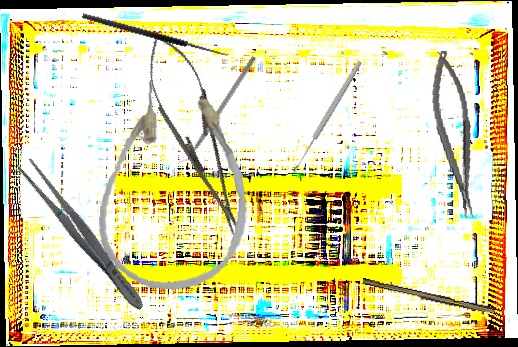Cannula: (93, 76, 258, 296)
Chopper: (175, 52, 257, 168)
Dressing Forceps: (14, 155, 151, 316)
Hook Surgical: (81, 5, 232, 59)
Needle Holder: (130, 23, 260, 244), (426, 48, 482, 221)
Scalpel Handle: (361, 278, 496, 316)
Surgical Spoon: (290, 58, 364, 175)
